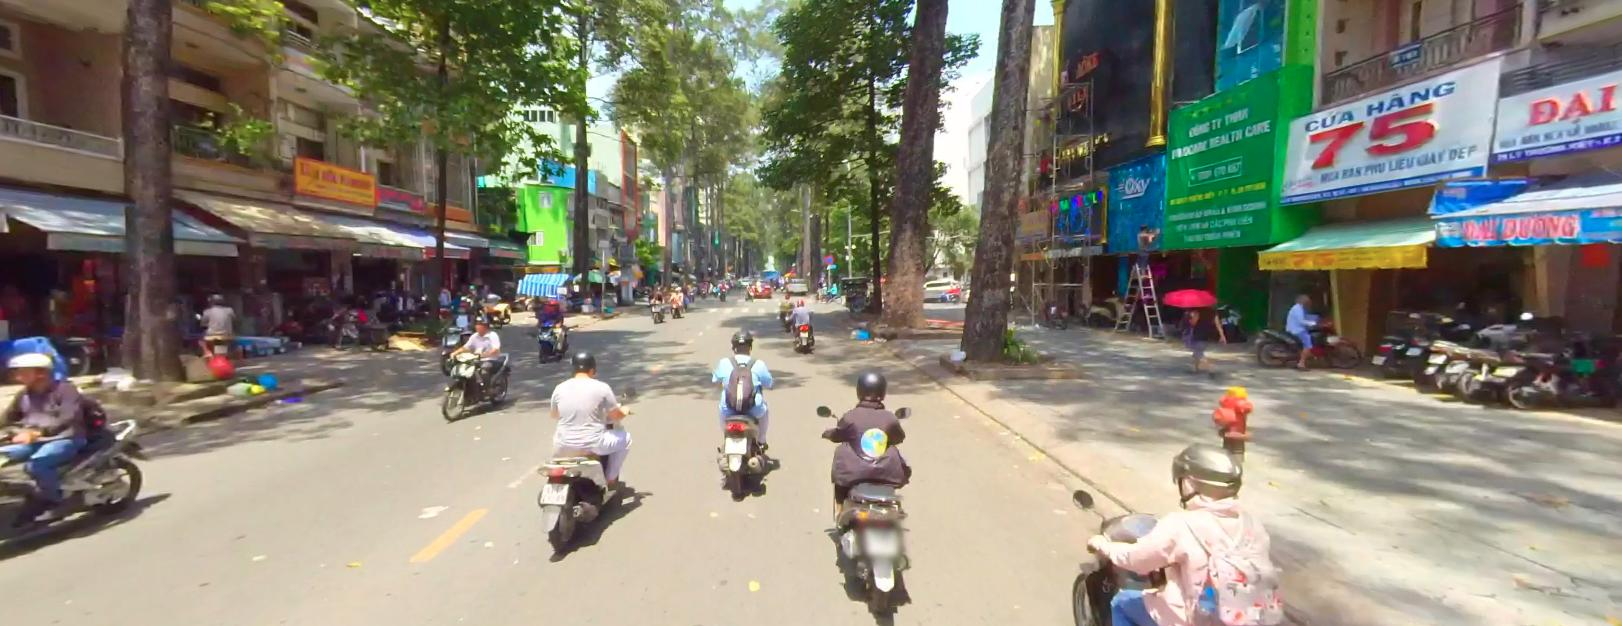Cam dung va do: (822, 254, 835, 263)
